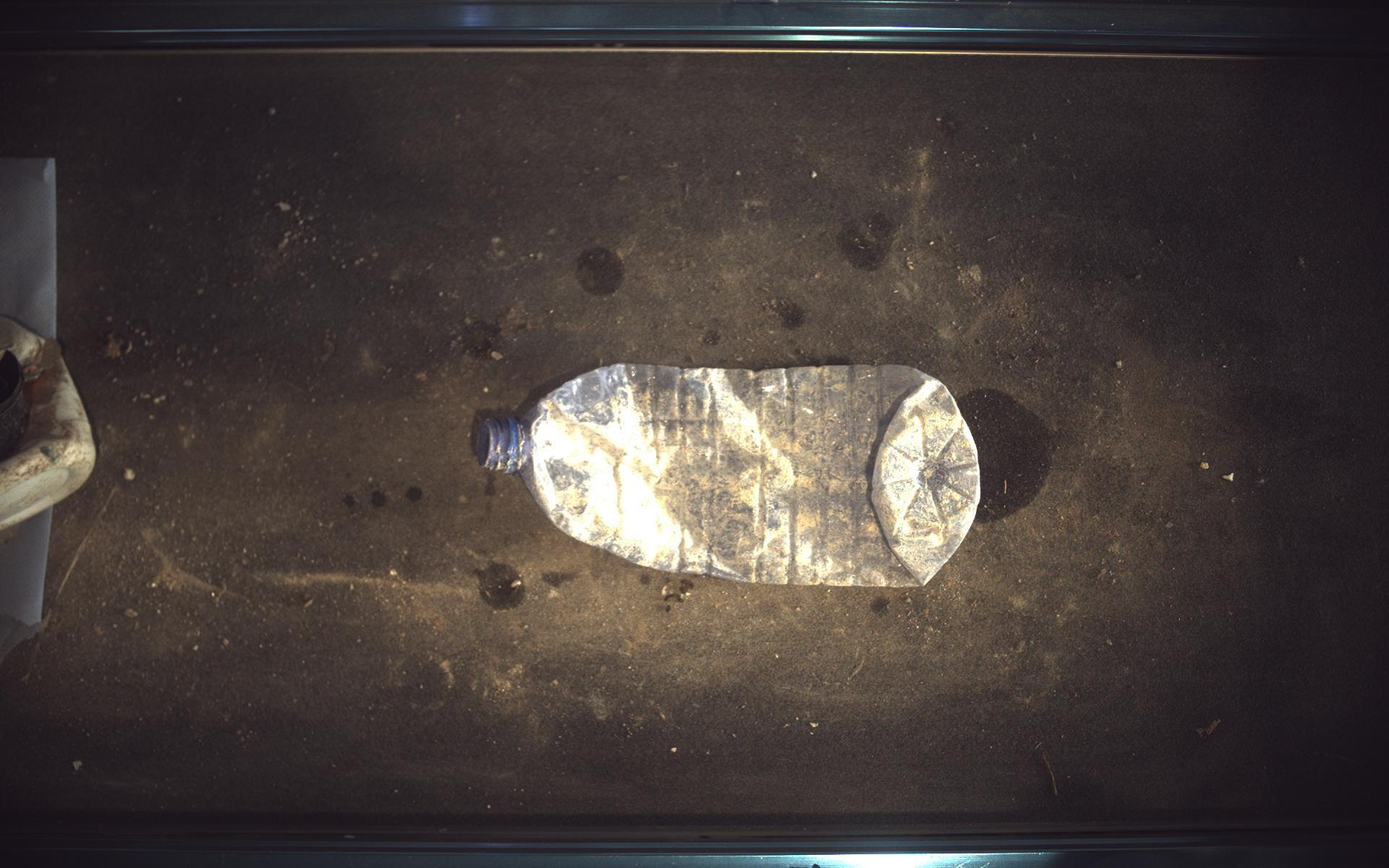general_w: (475, 364, 982, 588), (1, 315, 95, 533)
pipes: (1, 349, 27, 461)
